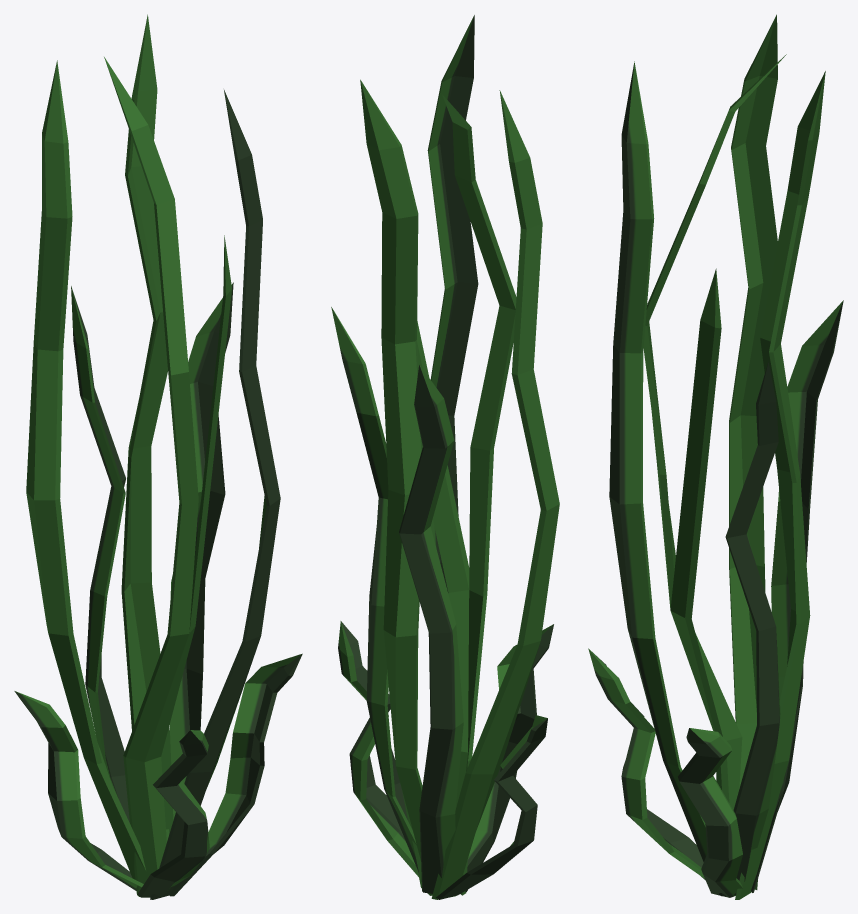
Rendered from Hierva Alta.fbx.
3 renders of one model, left to right at view 1: azimuth 30°, elevation 25°; view 2: azimuth 150°, elevation 25°; view 3: azimuth 270°, elevation 25°, orthographic.
Parts seen in each view (by area): view 1: hierva alta; view 2: hierva alta; view 3: hierva alta.
Boxes of the visible parts, bbox=[...] form: hierva alta: bbox=[14, 14, 302, 899]; hierva alta: bbox=[331, 15, 559, 899]; hierva alta: bbox=[588, 14, 843, 899].
Bounding box in the file's own units: 71.58 × 230 × 63.57.
